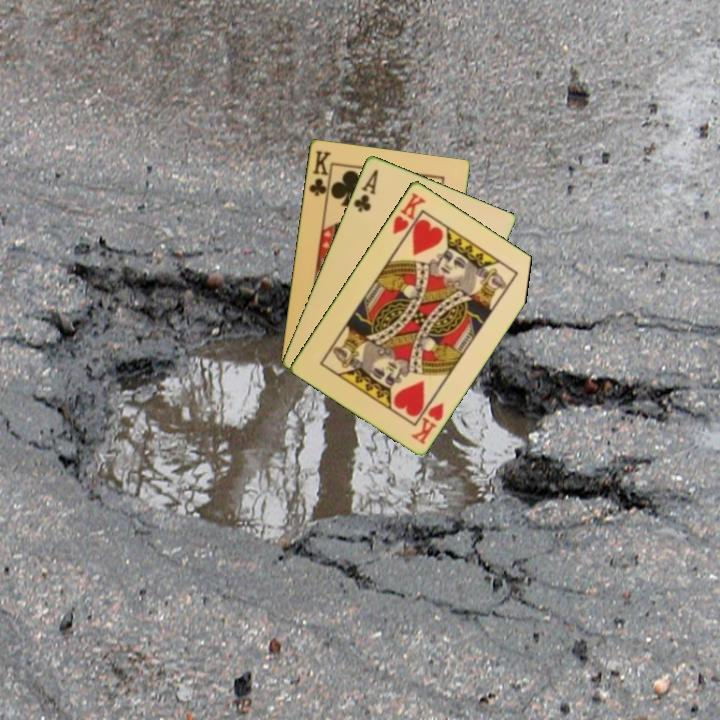Ac: (350, 165, 381, 214)
Kc: (305, 147, 333, 203)
Kh: (389, 188, 428, 244), (407, 398, 447, 447)
